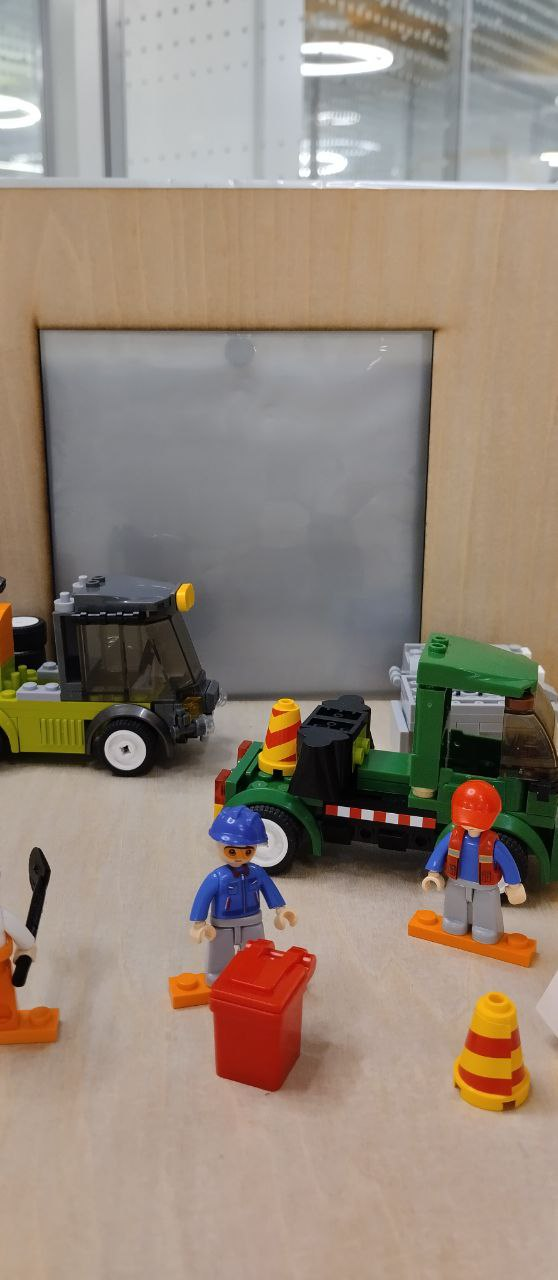Cone: (453, 988, 536, 1112), (261, 697, 299, 771)
Crane: (0, 572, 226, 771)
Object Black: (296, 695, 368, 778)
Object Red: (210, 939, 318, 1094)
Truck: (215, 635, 557, 902)
